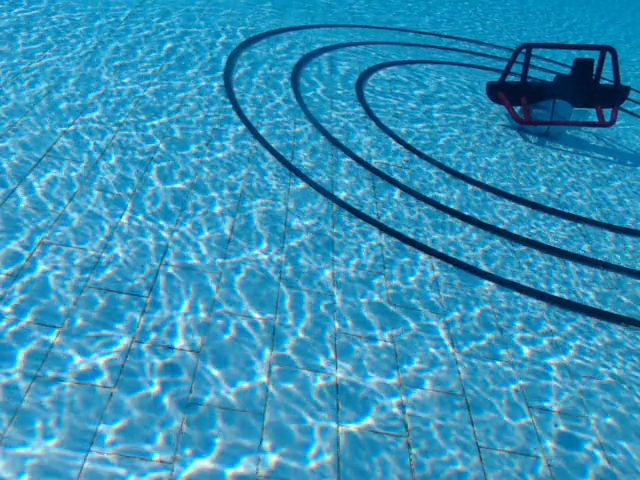submarine: (485, 43, 633, 131)
